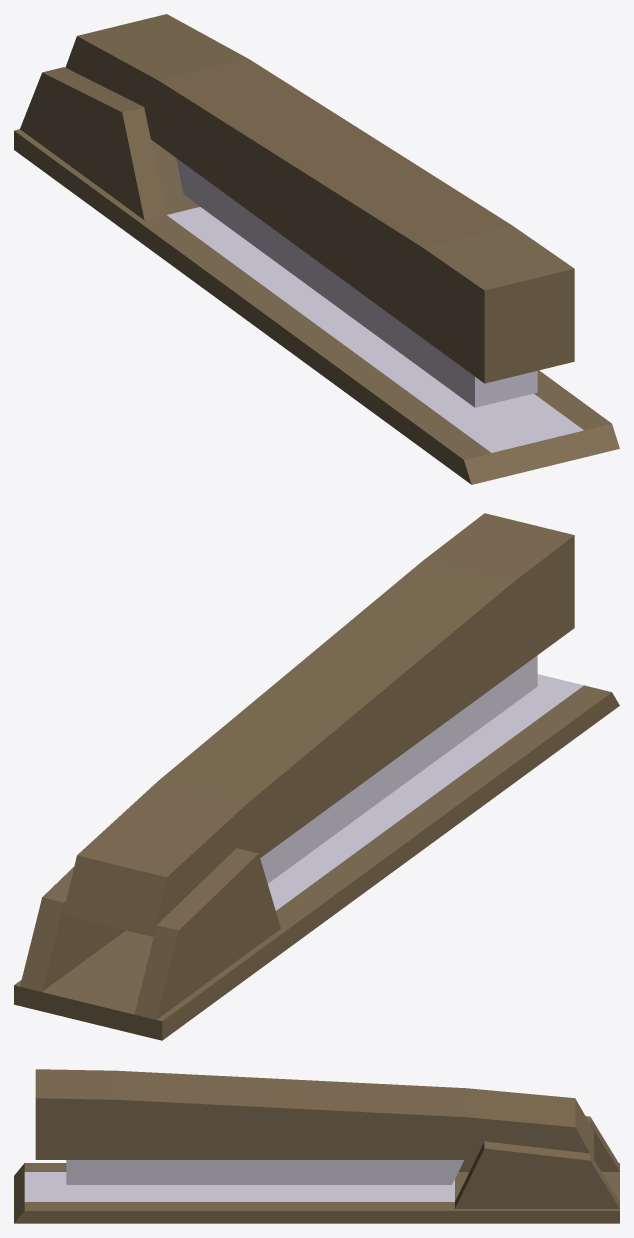
Rendered from stapler_modelingfbx.fbx.
The picture shows the model from 3 angles, top to bottom: view 1: azimuth 30°, elevation 25°; view 2: azimuth 150°, elevation 25°; view 3: azimuth 270°, elevation 25°; orthographic projection. The views are drawn at different scales.
Parts seen in each view (by area): view 1: stapler_modelingfbx; view 2: stapler_modelingfbx; view 3: stapler_modelingfbx.
Boxes of the visible parts, x1,y1,x2,y2 form: stapler_modelingfbx: (14,14,619,484); stapler_modelingfbx: (14,513,619,1040); stapler_modelingfbx: (14,1069,619,1223).
Bounding box in the file's own units: 283 × 320 × 1515.
